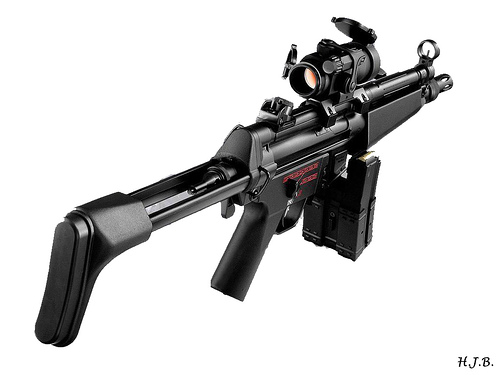rifle: (23, 22, 463, 346)
